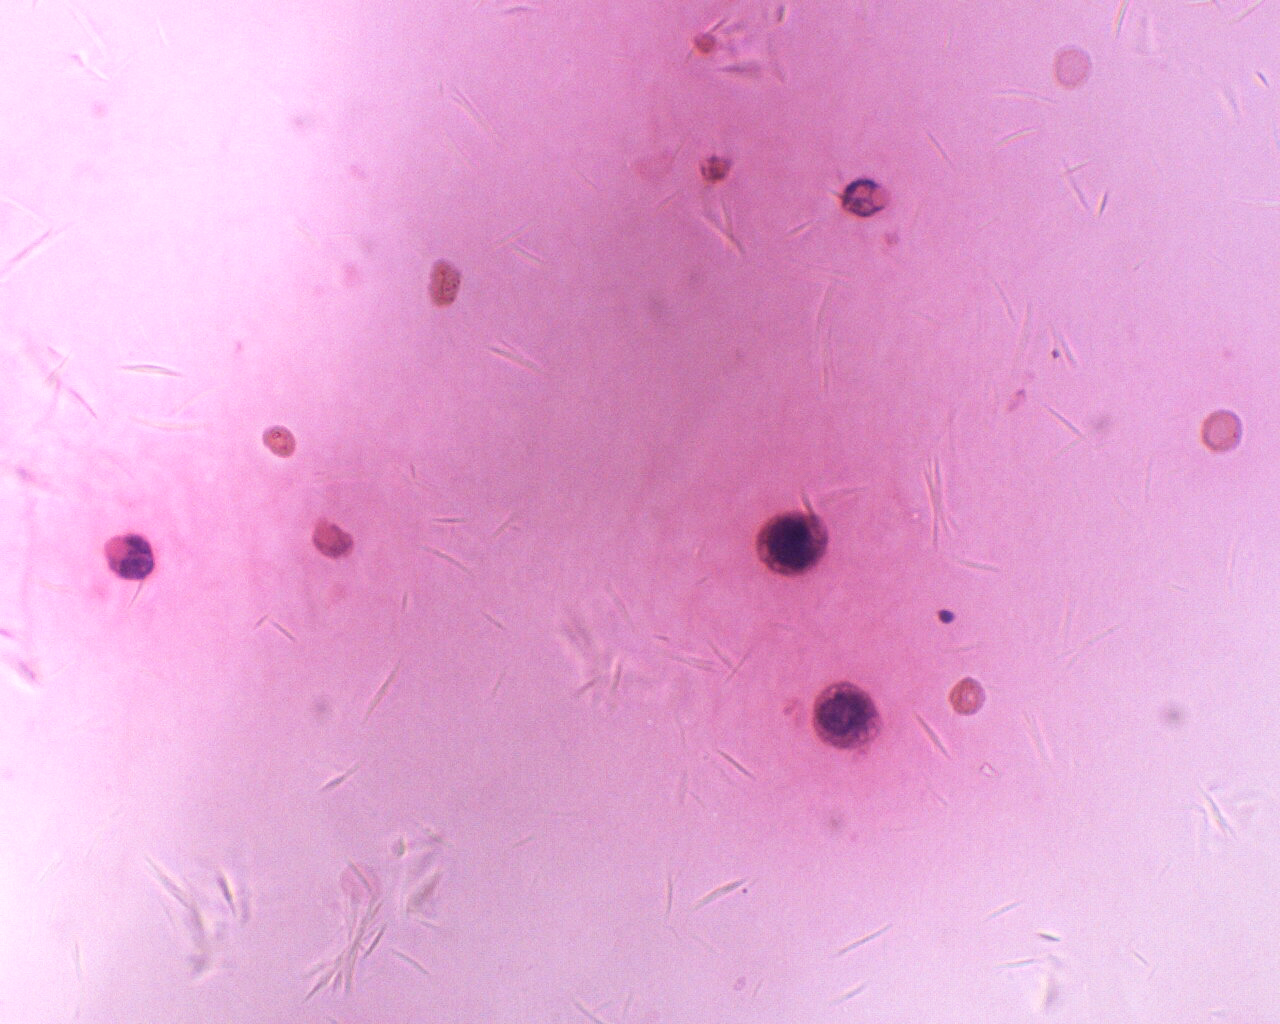ab: (808, 673, 886, 753), (752, 506, 833, 583)
